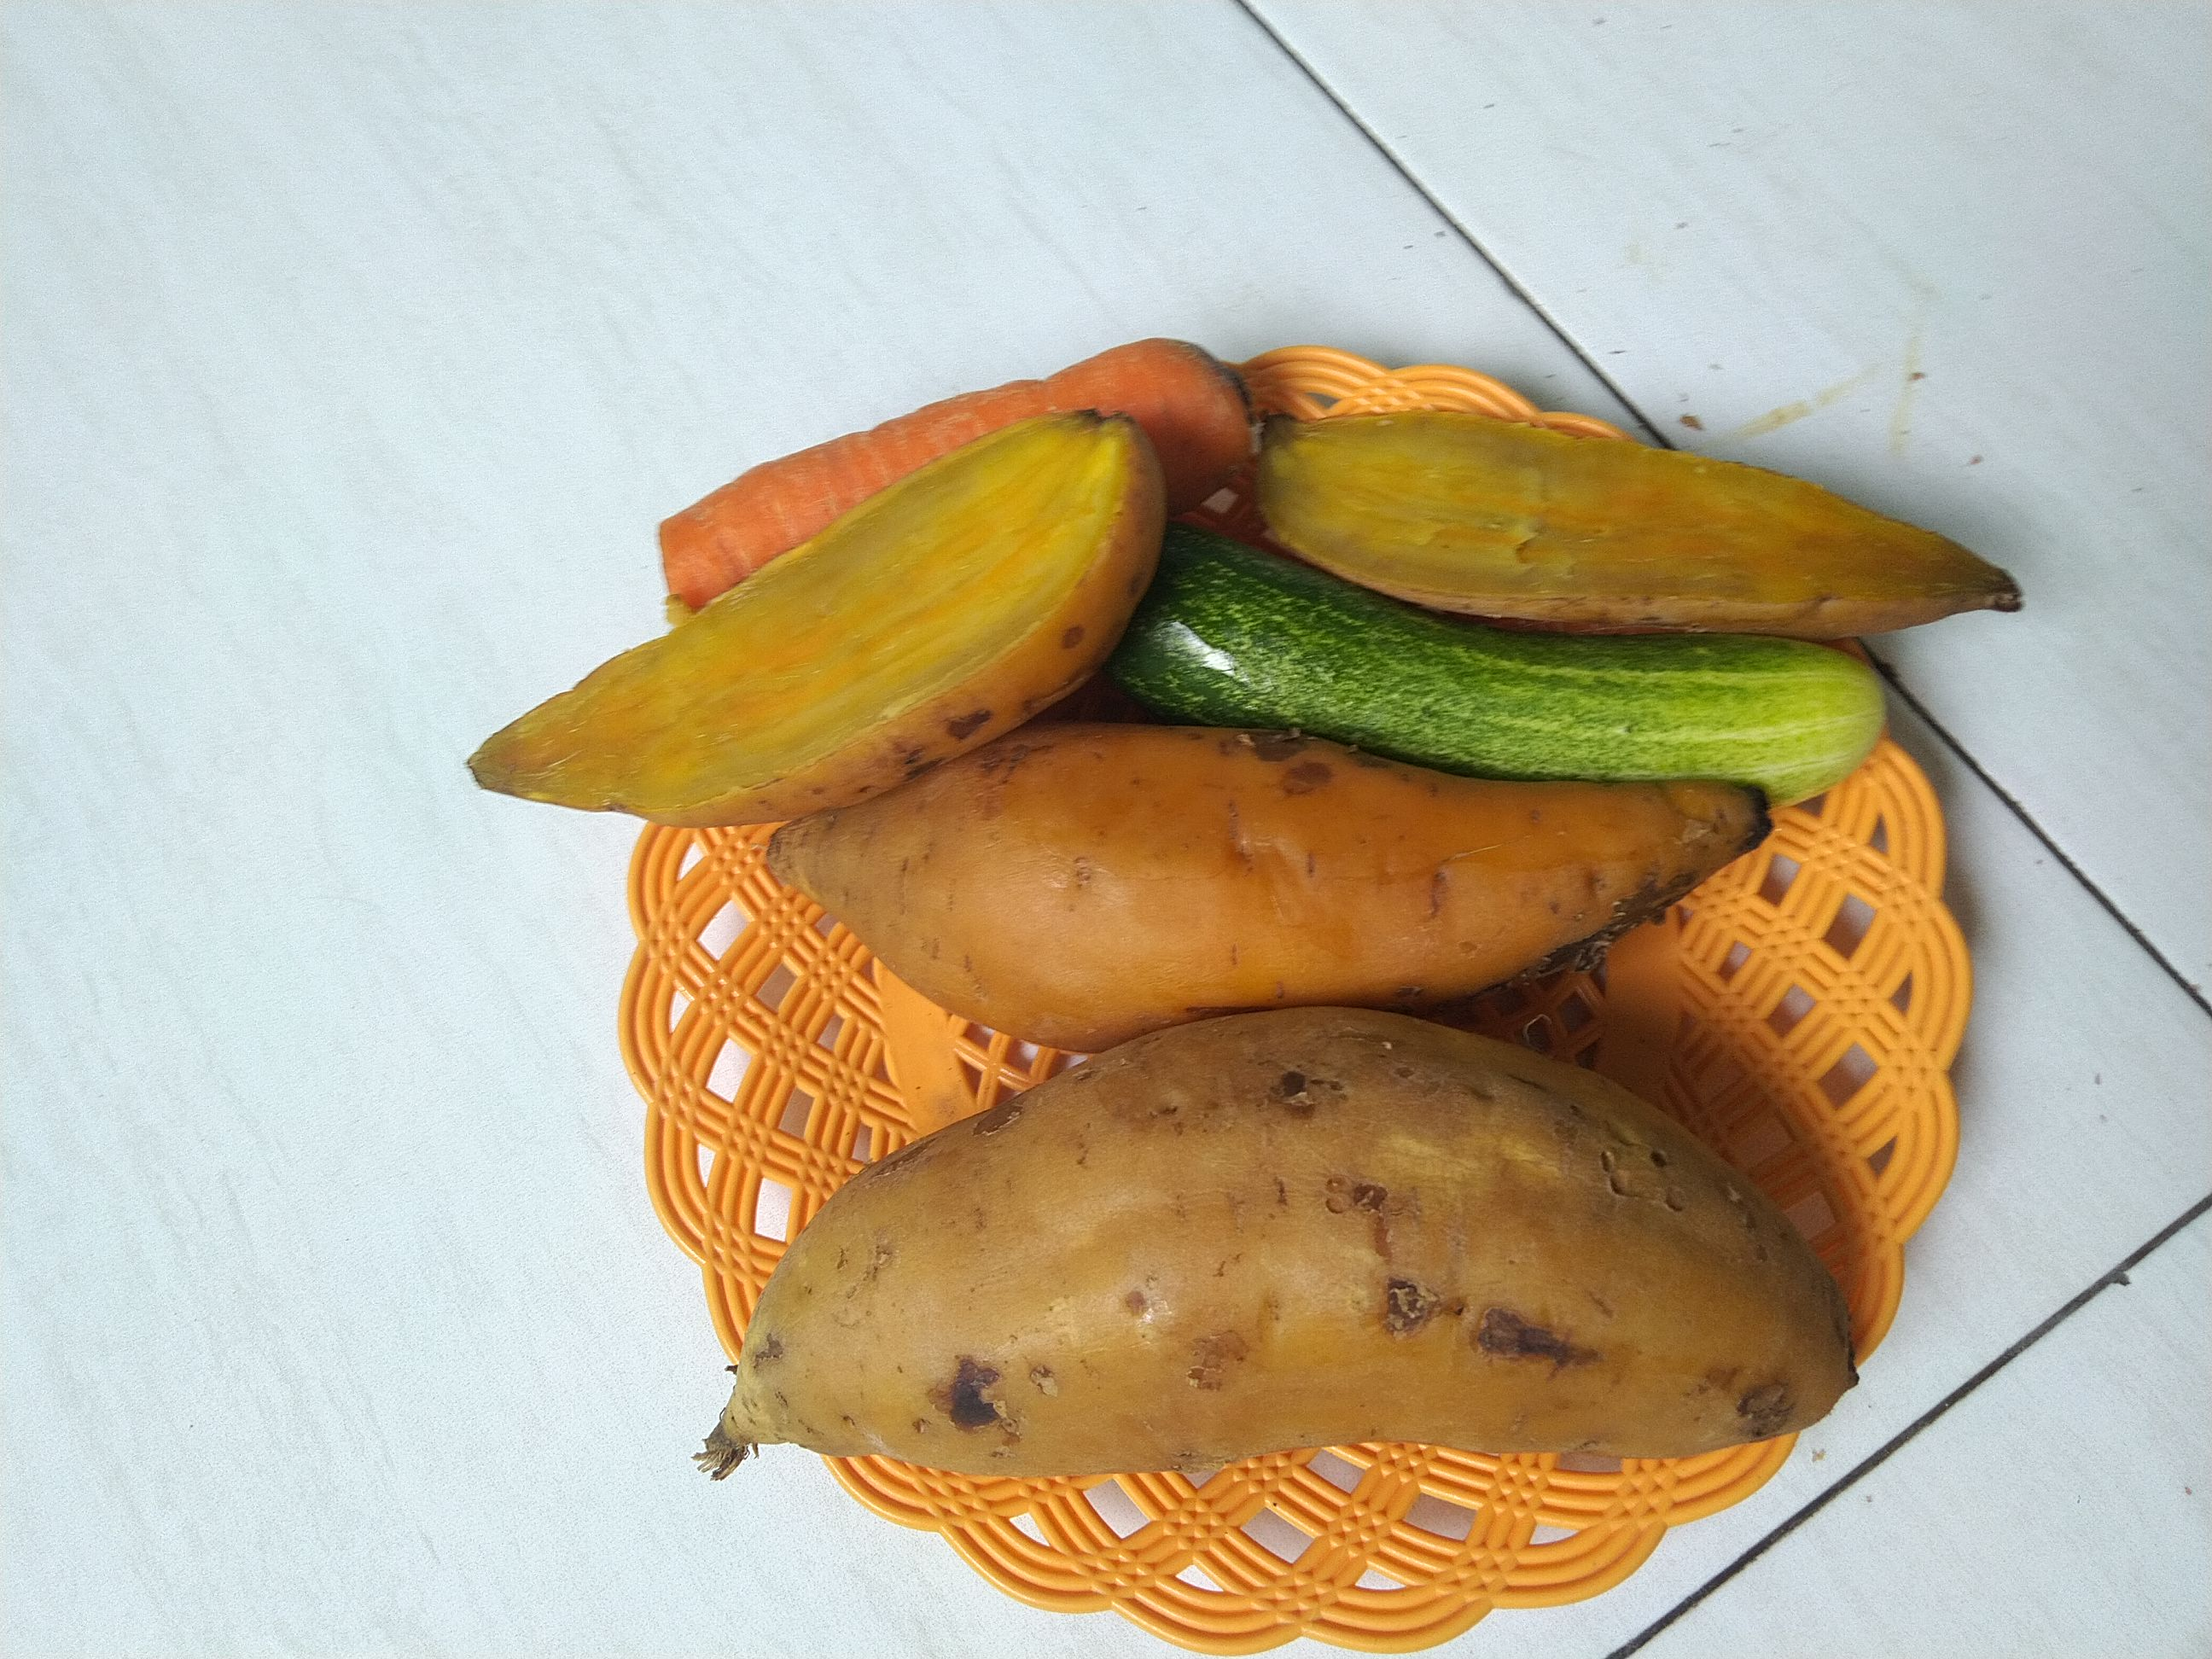ubi cilembu: (683, 1018, 1886, 1518), (756, 735, 1766, 1053), (458, 432, 1163, 829), (1251, 396, 2026, 638)
